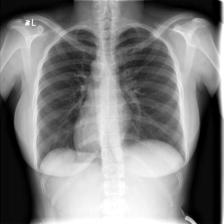normal: (31, 25, 188, 168)
